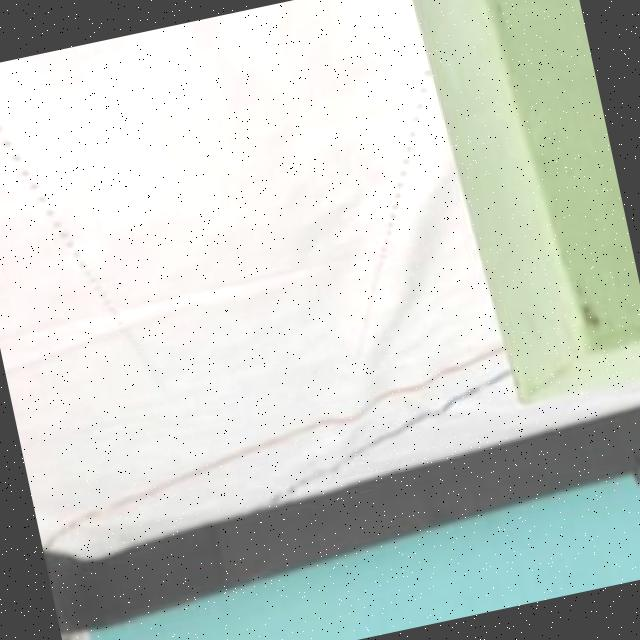greenbox: (397, 0, 640, 415)
